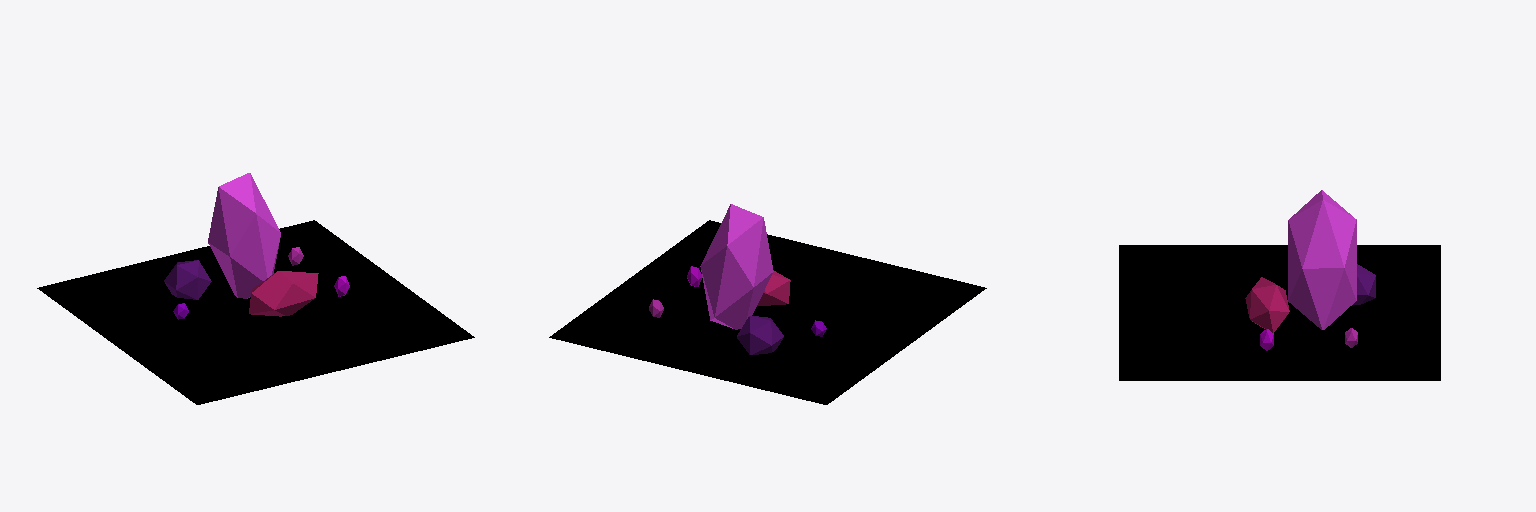
Rendered from candy-rocks.obj.
3 views of the same model, side by side, from view 1: azimuth 30°, elevation 25°; view 2: azimuth 150°, elevation 25°; view 3: azimuth 270°, elevation 25° (orthographic).
Parts seen in each view (by area): view 1: Plane, Icosahedron, Icosahedron1, Icosahedron2; view 2: Plane, Icosahedron, Icosahedron2, Icosahedron1; view 3: Plane, Icosahedron, Icosahedron1, Icosahedron2.
Boxes of the visible parts, <box> form: Plane: <box>37,220,474,404</box>; Icosahedron: <box>208,173,280,298</box>; Icosahedron1: <box>249,271,318,316</box>; Icosahedron2: <box>164,260,211,299</box>; Plane: <box>549,220,986,404</box>; Icosahedron: <box>700,204,773,329</box>; Icosahedron2: <box>737,316,783,354</box>; Icosahedron1: <box>757,270,790,305</box>; Plane: <box>1119,245,1440,380</box>; Icosahedron: <box>1288,190,1356,329</box>; Icosahedron1: <box>1245,277,1289,332</box>; Icosahedron2: <box>1353,264,1375,304</box>.
Bounding box in the file's own units: 4 × 1.76 × 4.